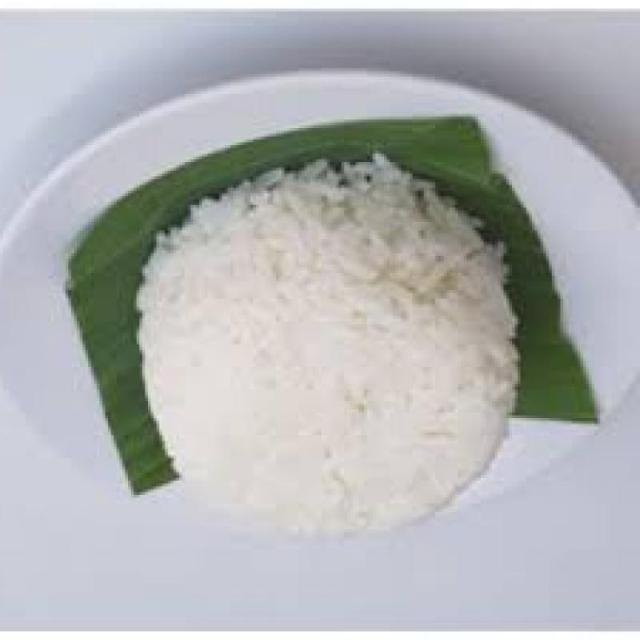nasi_putih: (135, 154, 520, 538)
